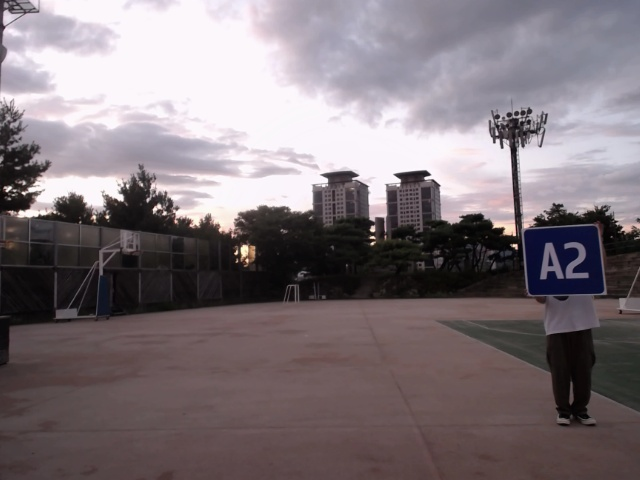delivery_a2: (523, 226, 605, 296)
